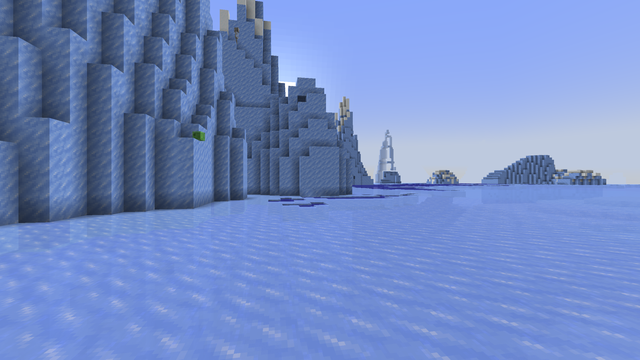slimes: (192, 130, 203, 140)
squelettes: (234, 27, 239, 45)
